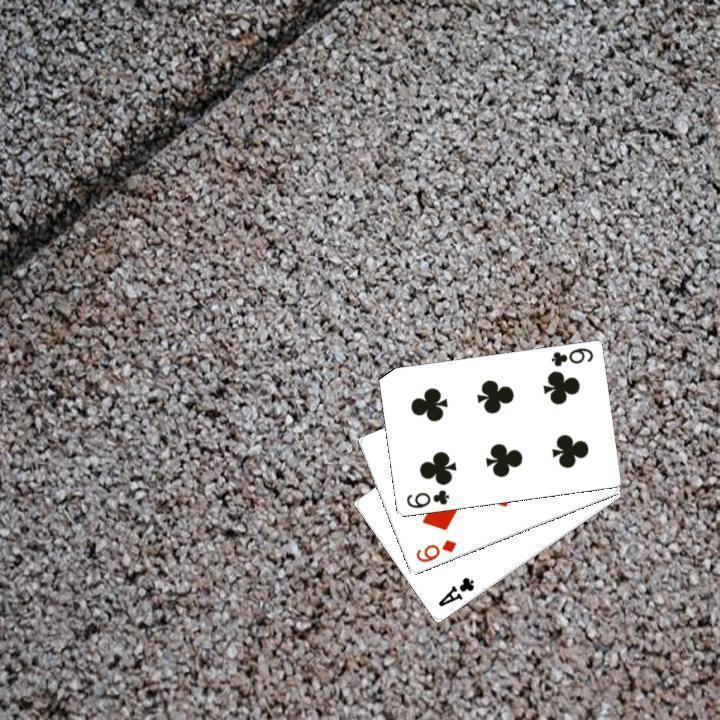6: (411, 535, 458, 565), (401, 486, 451, 511), (546, 344, 595, 369)
A: (433, 573, 476, 609)
